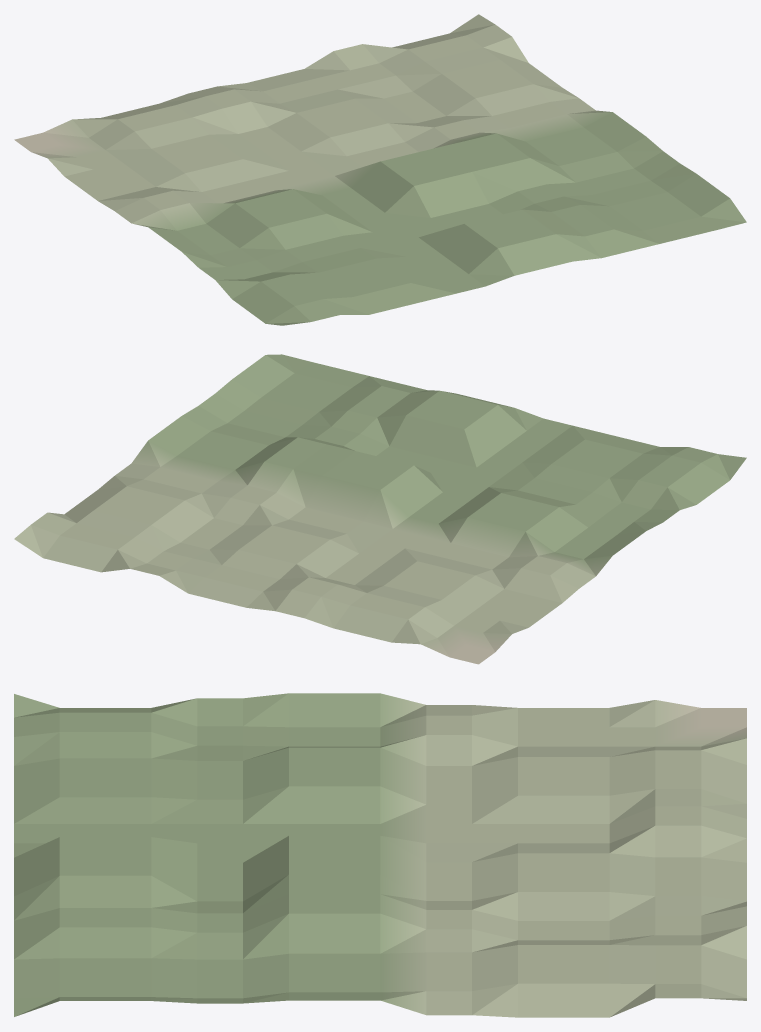
The picture shows the model from 3 angles, top to bottom: view 1: azimuth 30°, elevation 25°; view 2: azimuth 150°, elevation 25°; view 3: azimuth 270°, elevation 25°; orthographic projection. The views are drawn at different scales.
Bounding box in the file's own units: 32 × 1.3 × 32.
